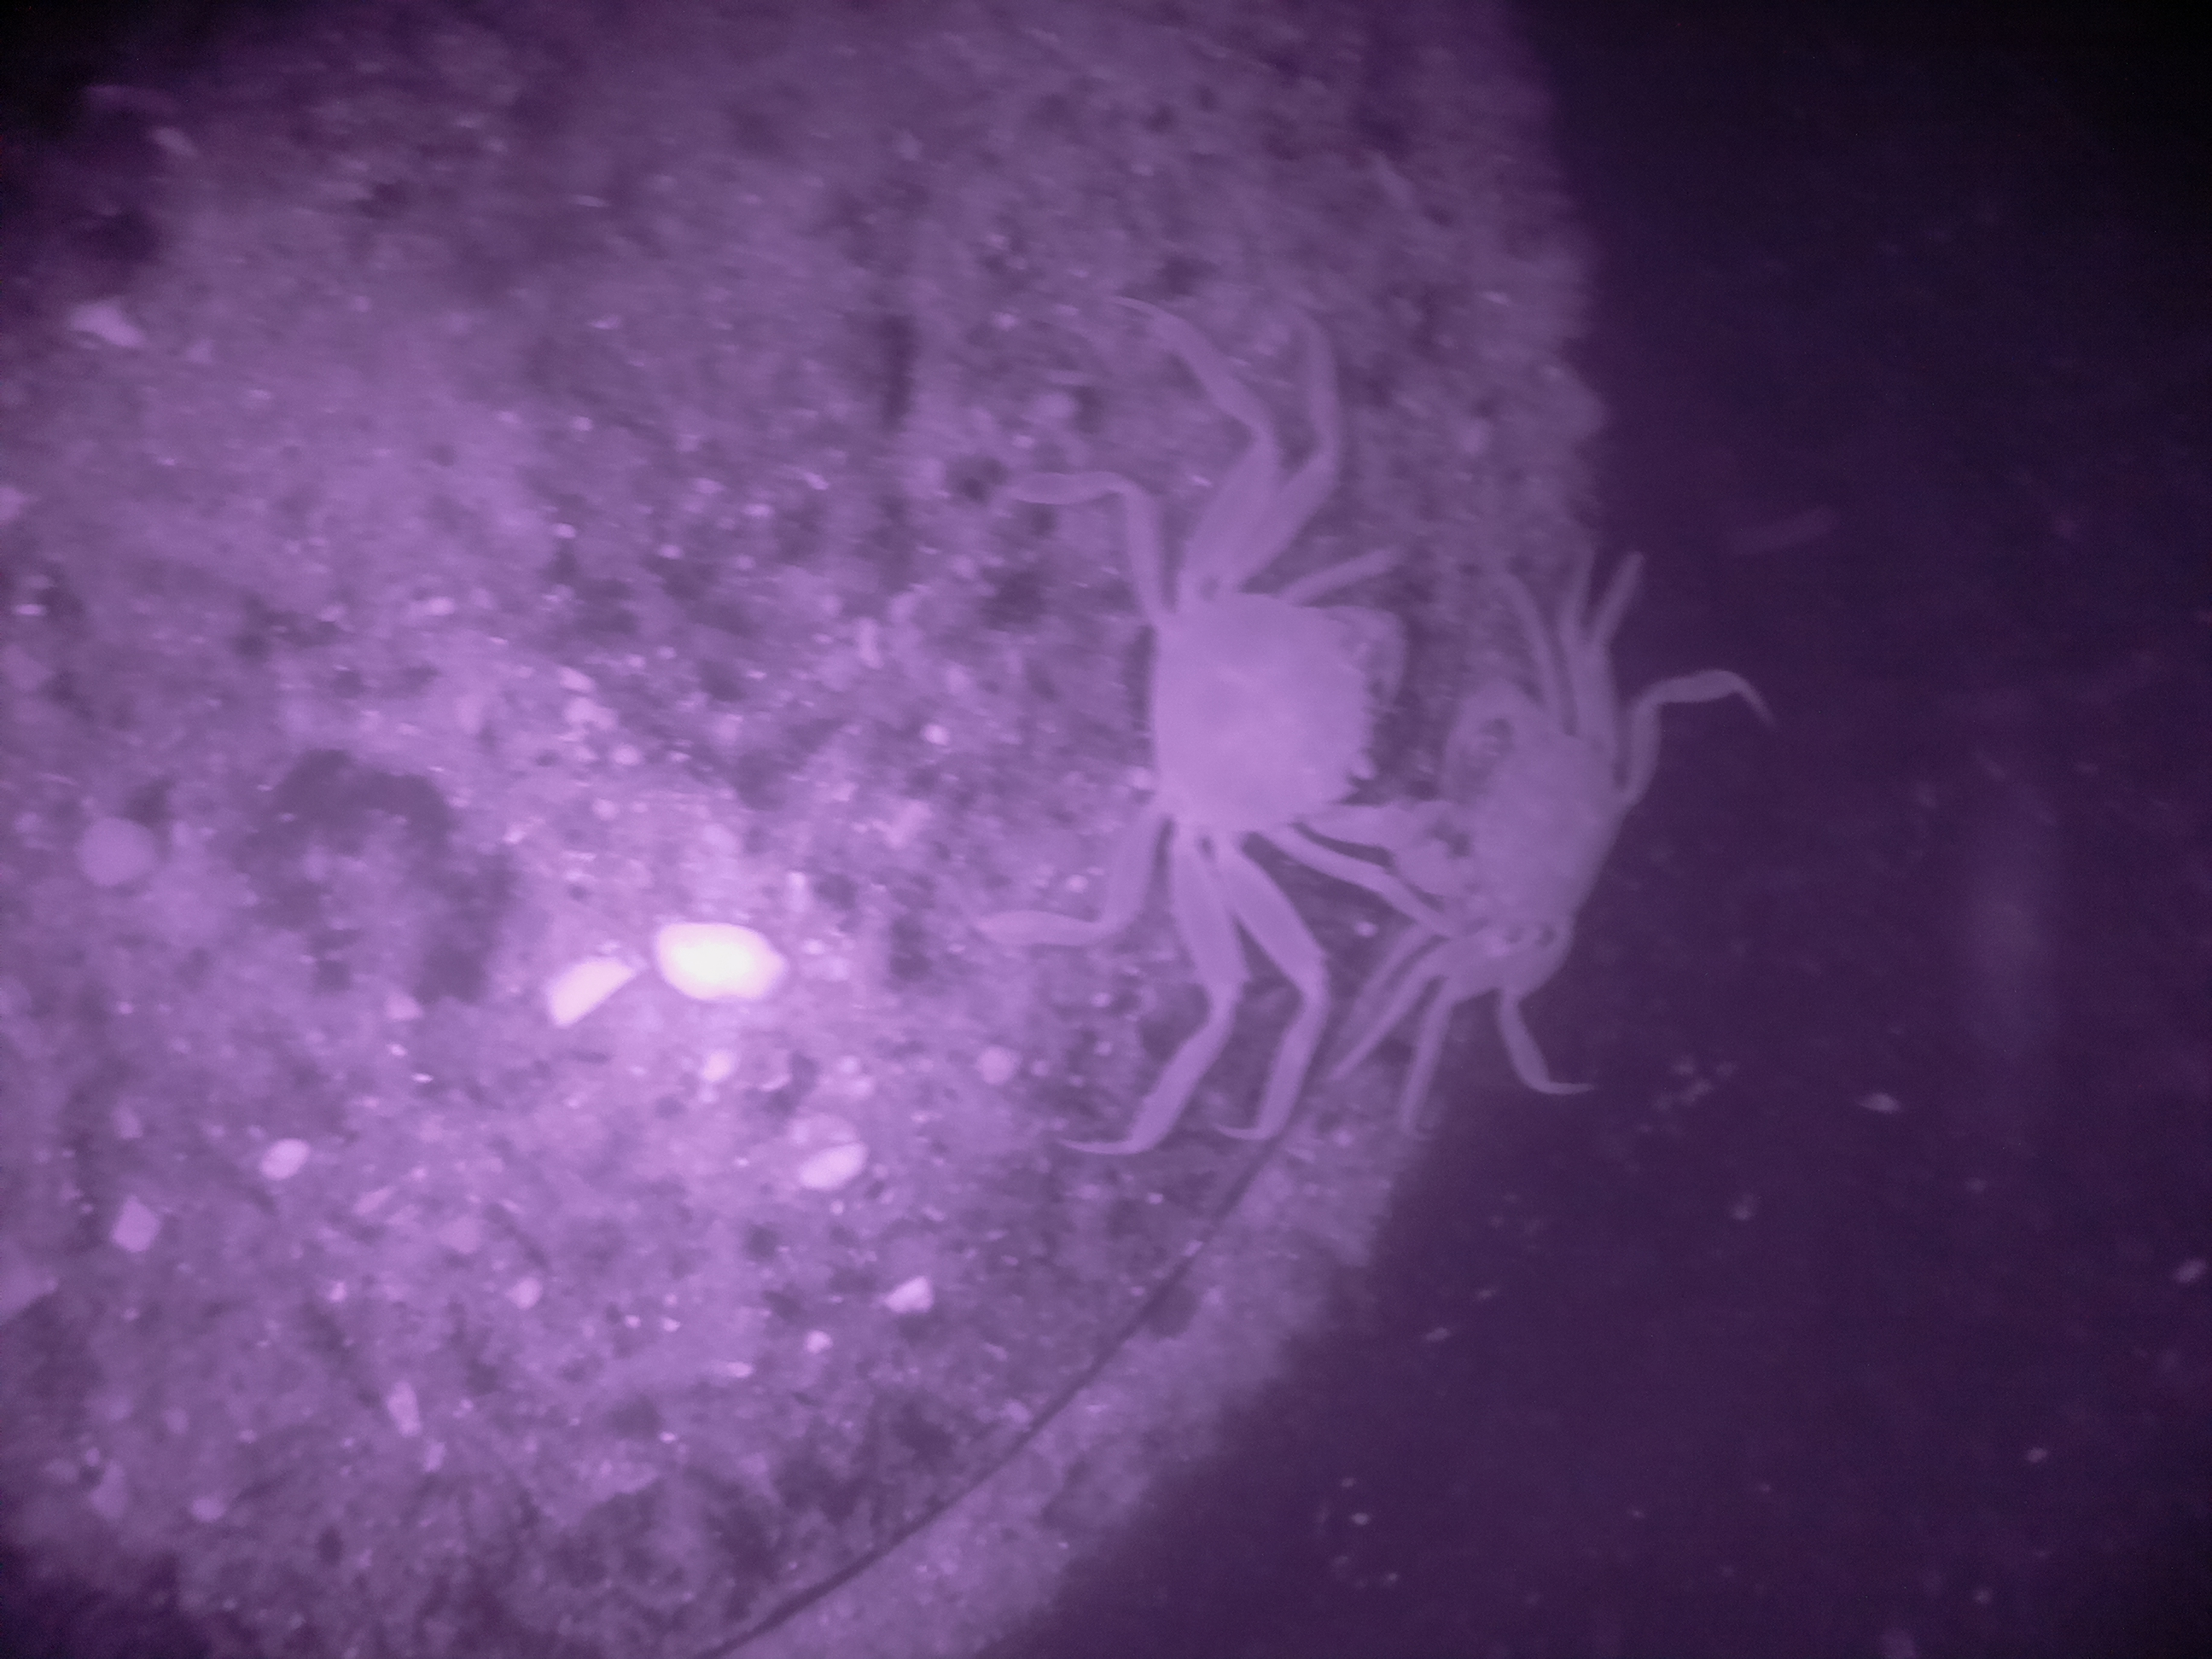Crab: (1076, 457, 1461, 955)
